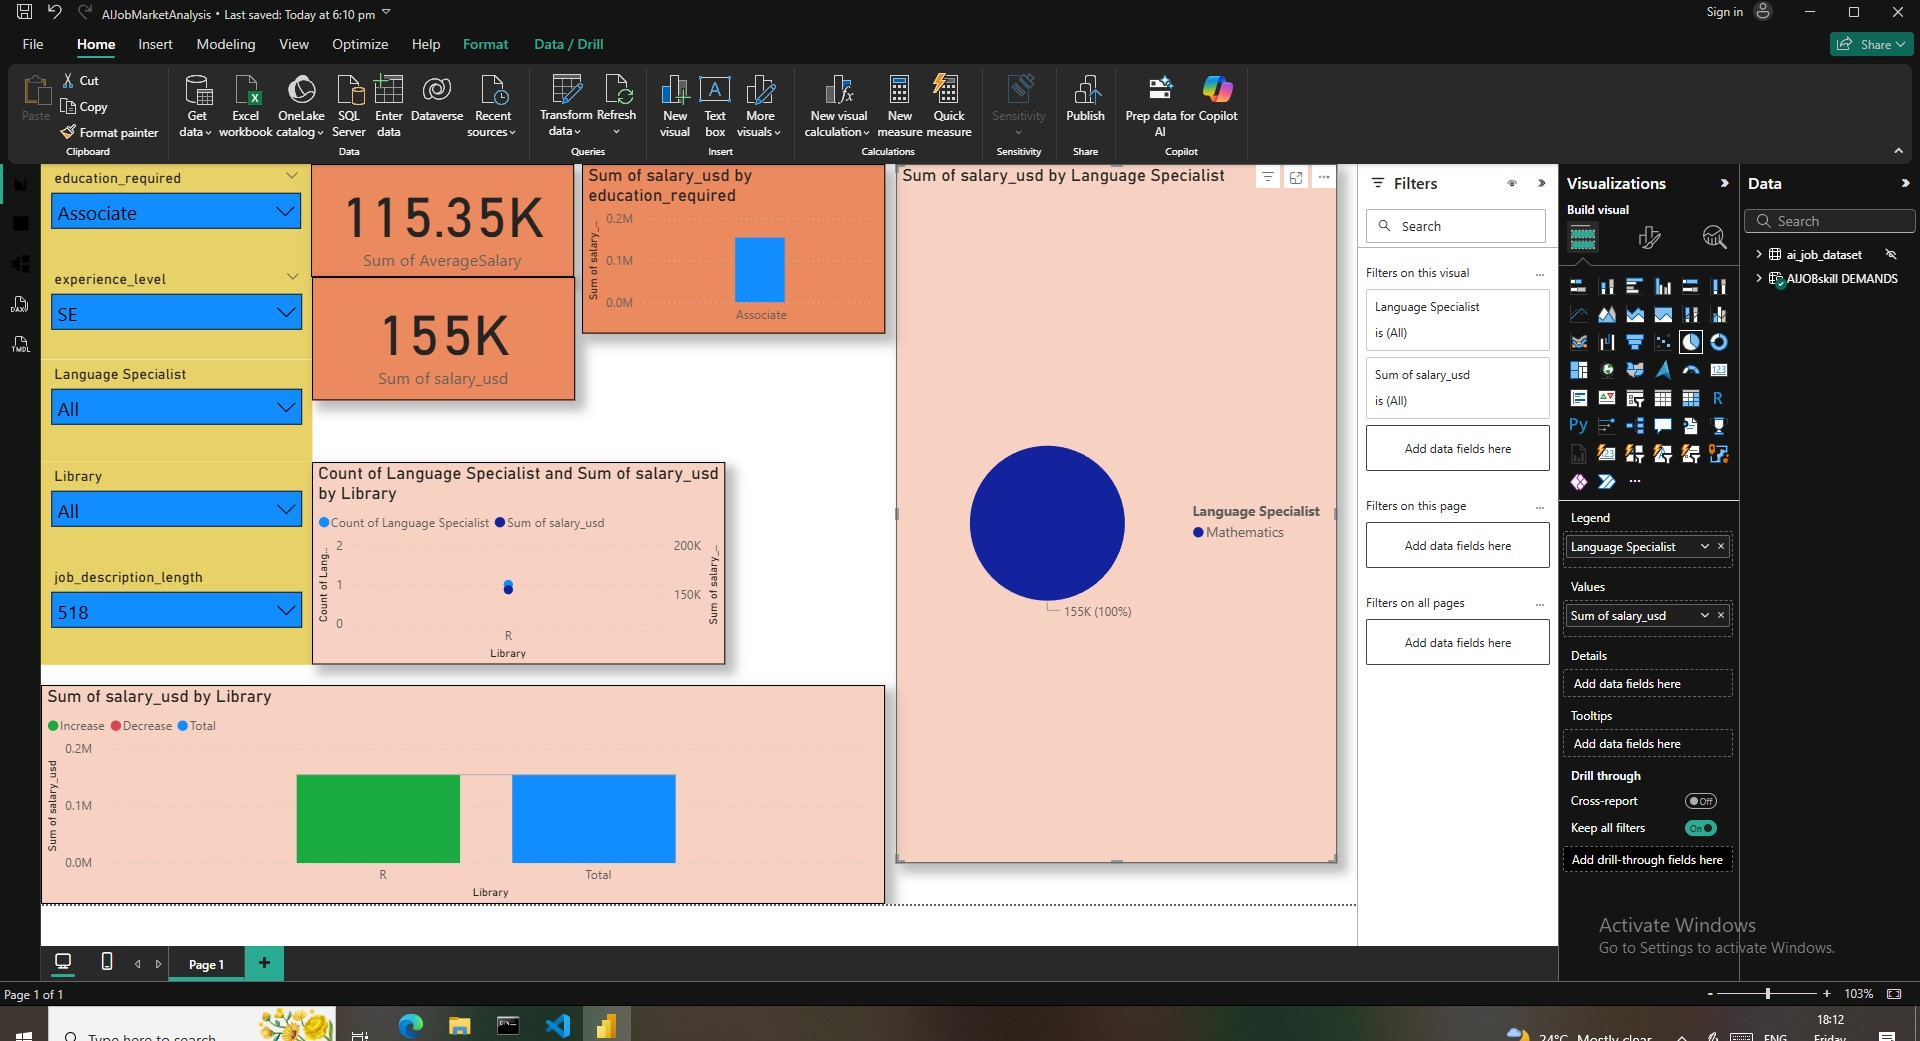

This screenshot's page, from the dashboard's own definition file:
{"tool":"powerbi","page":{"name":"Page 1","canvas":[1280,720],"ordinal":0},"visuals":[{"type":"slicer","fields":{"Values":["AIJOBskill DEMANDS.job_description_length"]},"box":[0,388.1,264.1,98.6],"z":0},{"type":"slicer","fields":{"Values":["AIJOBskill DEMANDS.experience_level"]},"box":[0,98.6,264.1,92.3],"z":1000},{"type":"slicer","fields":{"Values":["AIJOBskill DEMANDS.Language Specialist"]},"box":[0,190.9,264.1,98.6],"z":2000},{"type":"slicer","fields":{"Values":["AIJOBskill DEMANDS.Library"]},"box":[0,289.5,264.1,98.6],"z":3000},{"type":"slicer","fields":{"Values":["AIJOBskill DEMANDS.education_required"]},"box":[0,0,263,98.6],"z":4000},{"type":"card","fields":{"Values":["Sum(AIJOBskill DEMANDS.AverageSalary)"]},"box":[263,0,255.6,110.3],"z":5000},{"type":"card","fields":{"Values":["Sum(AIJOBskill DEMANDS.salary_usd)"]},"box":[264.1,110.3,255.6,119.8],"z":6000},{"type":"columnChart","fields":{"Category":["AIJOBskill DEMANDS.education_required"],"Y":["Sum(AIJOBskill DEMANDS.salary_usd)"]},"box":[526,0,294.8,165.4],"z":7000},{"type":"pieChart","fields":{"Category":["AIJOBskill DEMANDS.Language Specialist"],"Y":["Sum(AIJOBskill DEMANDS.salary_usd)"]},"box":[831.4,0,429.5,679.8],"z":8000},{"type":"waterfallChart","fields":{"Category":["AIJOBskill DEMANDS.Library"],"Y":["Sum(AIJOBskill DEMANDS.salary_usd)"]},"box":[0,506.9,820.8,213.2],"z":9000},{"type":"lineChart","fields":{"Category":["AIJOBskill DEMANDS.Library"],"Y":["CountNonNull(AIJOBskill DEMANDS.Language Specialist)"],"Y2":["Sum(AIJOBskill DEMANDS.salary_usd)"]},"box":[264.1,289.5,401.9,197.2],"z":10000}]}

Visuals, with their boxes on the page's 1280x720 design canvas (x1, y1, x2, y2). These are canvas units, not pixel positions in the 1920x1041 screenshot, which may show the page scaled, cropped or inside an application window:
slicer - AIJOBskill DEMANDS.job_description_length: Rect(0, 388, 264, 487)
slicer - AIJOBskill DEMANDS.experience_level: Rect(0, 99, 264, 191)
slicer - AIJOBskill DEMANDS.Language Specialist: Rect(0, 191, 264, 290)
slicer - AIJOBskill DEMANDS.Library: Rect(0, 290, 264, 388)
slicer - AIJOBskill DEMANDS.education_required: Rect(0, 0, 263, 99)
card - Sum(AIJOBskill DEMANDS.AverageSalary): Rect(263, 0, 519, 110)
card - Sum(AIJOBskill DEMANDS.salary_usd): Rect(264, 110, 520, 230)
columnChart - AIJOBskill DEMANDS.education_required x Sum(AIJOBskill DEMANDS.salary_usd): Rect(526, 0, 821, 165)
pieChart - AIJOBskill DEMANDS.Language Specialist x Sum(AIJOBskill DEMANDS.salary_usd): Rect(831, 0, 1261, 680)
waterfallChart - AIJOBskill DEMANDS.Library x Sum(AIJOBskill DEMANDS.salary_usd): Rect(0, 507, 821, 720)
lineChart - AIJOBskill DEMANDS.Library x CountNonNull(AIJOBskill DEMANDS.Language Specialist): Rect(264, 290, 666, 487)
